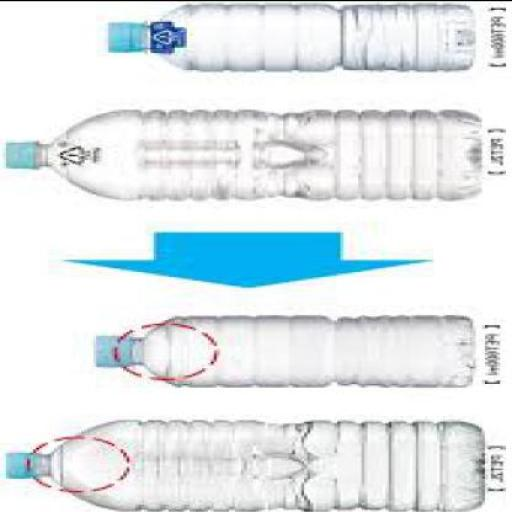plastic: (0, 105, 479, 200), (3, 416, 482, 510), (90, 312, 476, 385), (102, 1, 474, 69), (90, 333, 132, 364), (102, 19, 144, 49), (0, 137, 39, 167), (3, 448, 33, 478)
